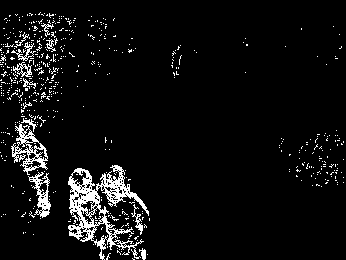person: (101, 164, 149, 260), (13, 121, 53, 219), (68, 164, 107, 258)
